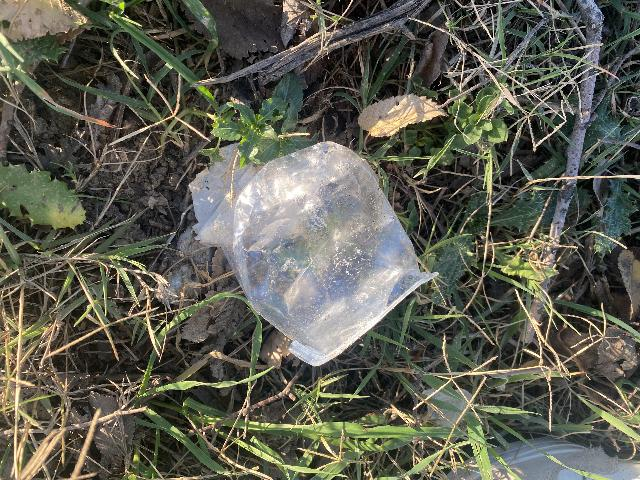Organik: (365, 94, 432, 148)
Plastik: (206, 149, 432, 357)
